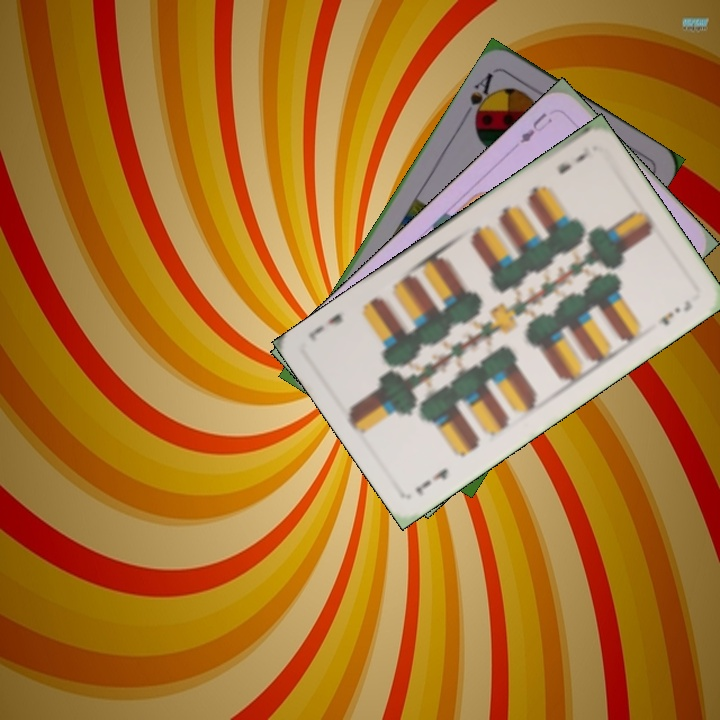E7: (553, 142, 593, 177), (411, 464, 451, 499)
EU: (515, 108, 555, 147)
SA: (465, 68, 498, 126)
